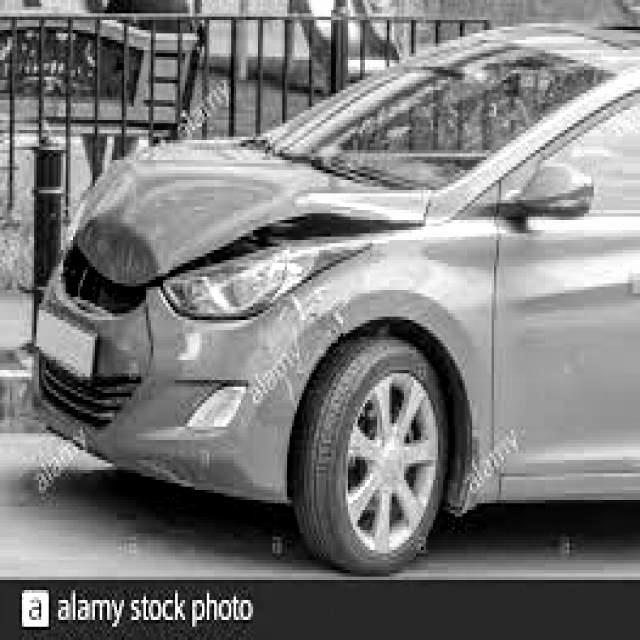bonnet-dent: (49, 148, 421, 311)
fender-dent: (346, 233, 499, 509)
front-bumper-dent: (91, 314, 310, 517)
